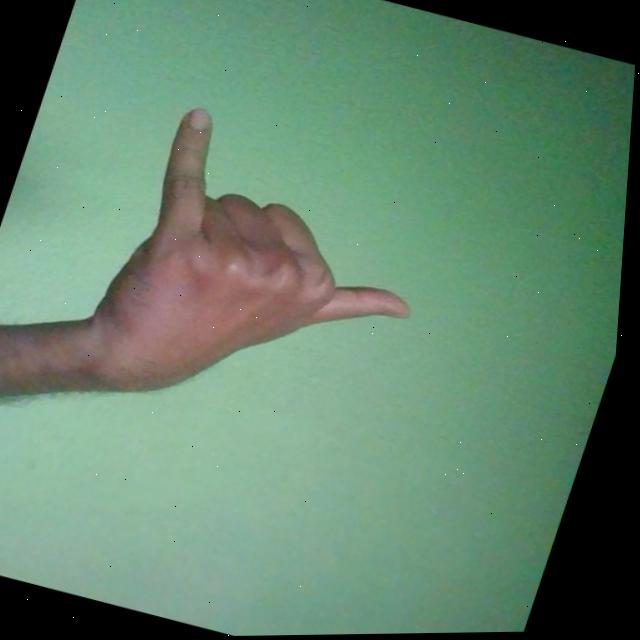Call Me: (71, 96, 464, 452)
